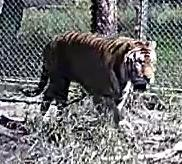tiger: (44, 31, 154, 100)
